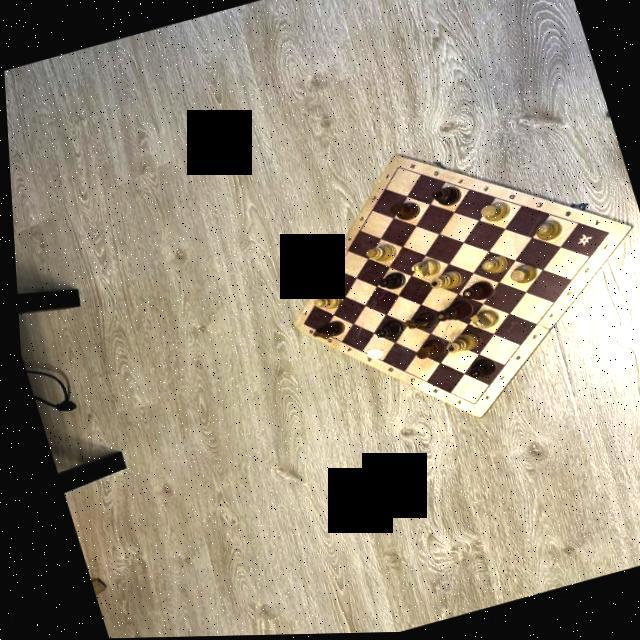chess-table-corners: (600, 233, 608, 238), (466, 403, 472, 408), (296, 323, 302, 327), (392, 167, 397, 171)
